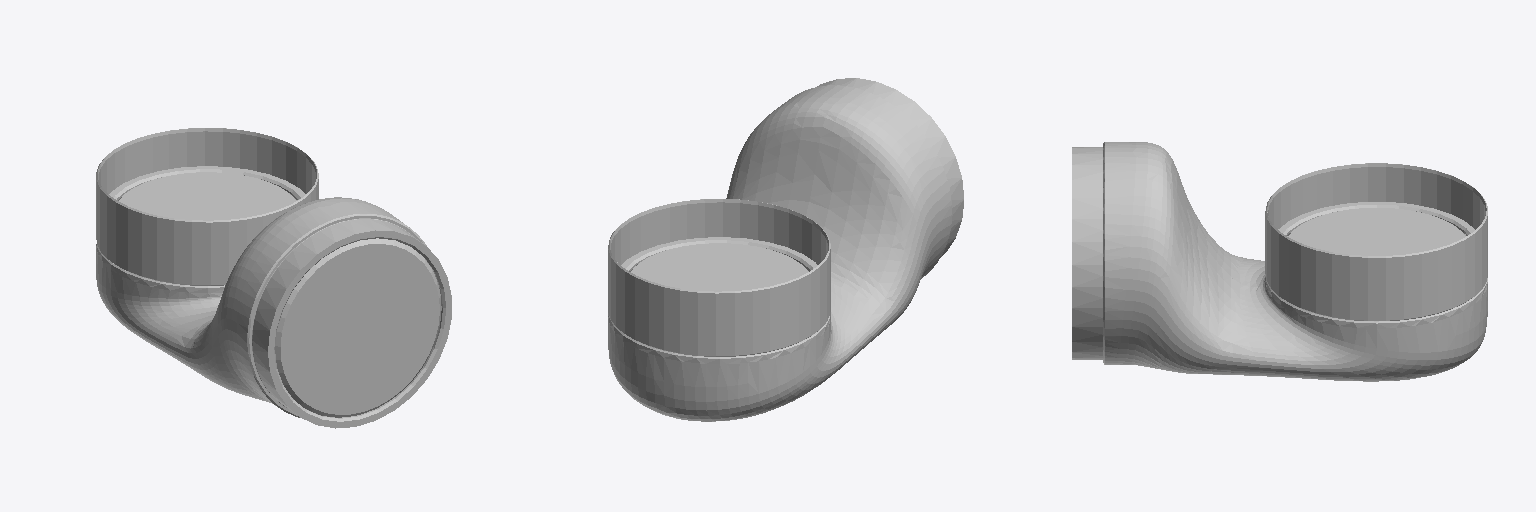
Rendered from shoulder_link.obj.
3 renders of one model, left to right at view 1: azimuth 30°, elevation 25°; view 2: azimuth 150°, elevation 25°; view 3: azimuth 270°, elevation 25°, orthographic.
Visible parts, largest first — view 1: Shoulder_Link; view 2: Shoulder_Link; view 3: Shoulder_Link.
Part boxes in pixels (left/top/right/bottom): Shoulder_Link: left=96, top=128, right=451, bottom=428; Shoulder_Link: left=608, top=78, right=963, bottom=421; Shoulder_Link: left=1072, top=142, right=1487, bottom=381.
Size of the model in its own units: 0.0927 by 0.0947 by 0.172.